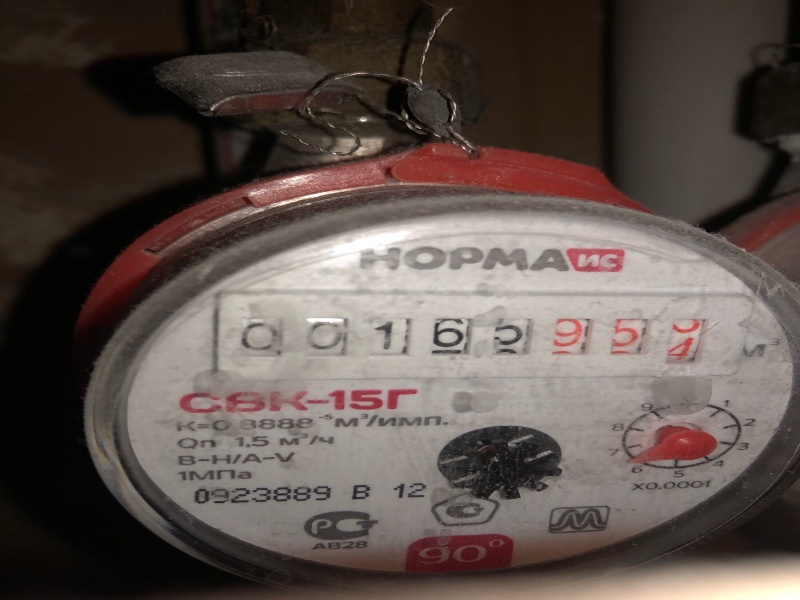meter: (224, 297, 713, 375)
